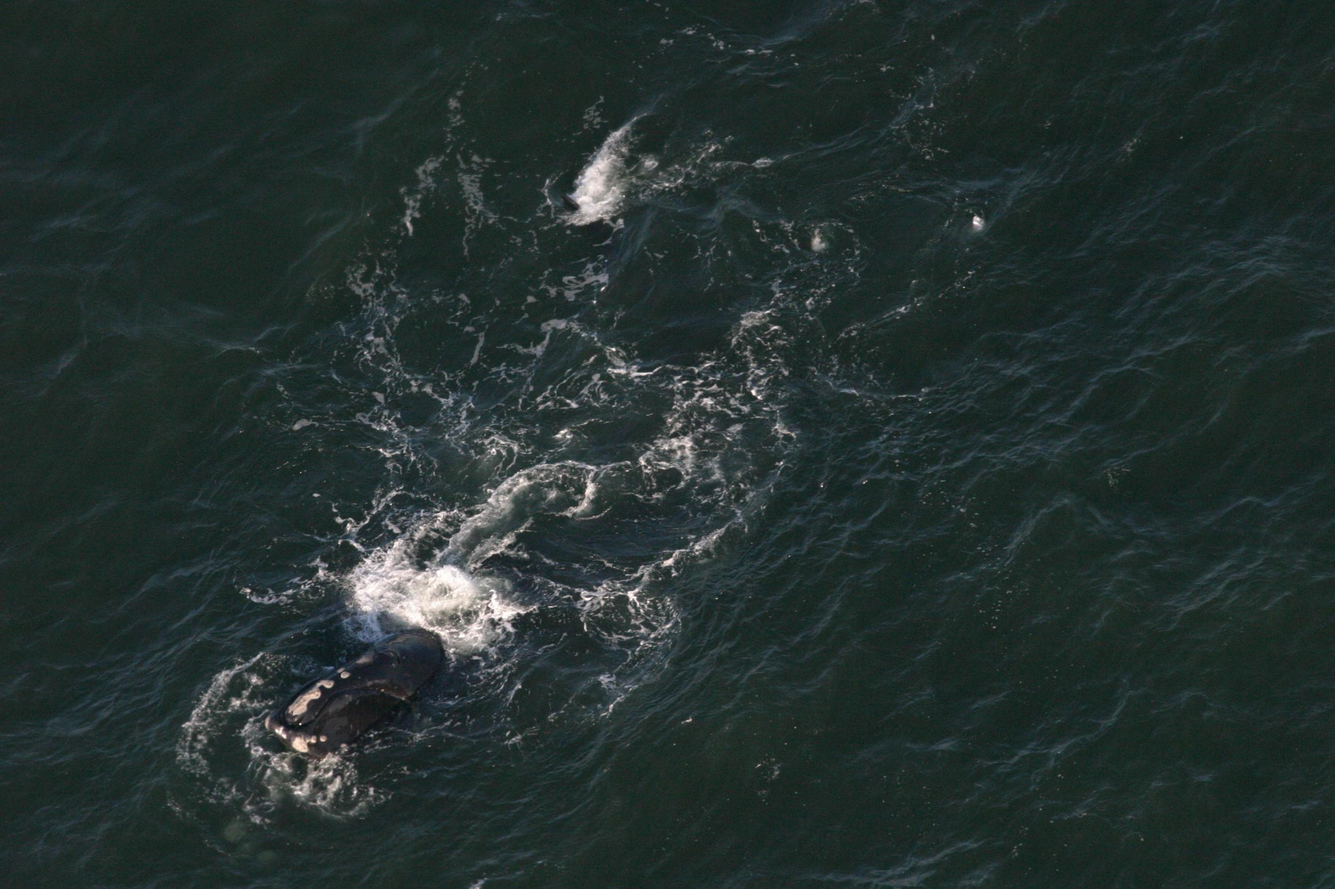whale: (258, 562, 535, 770)
